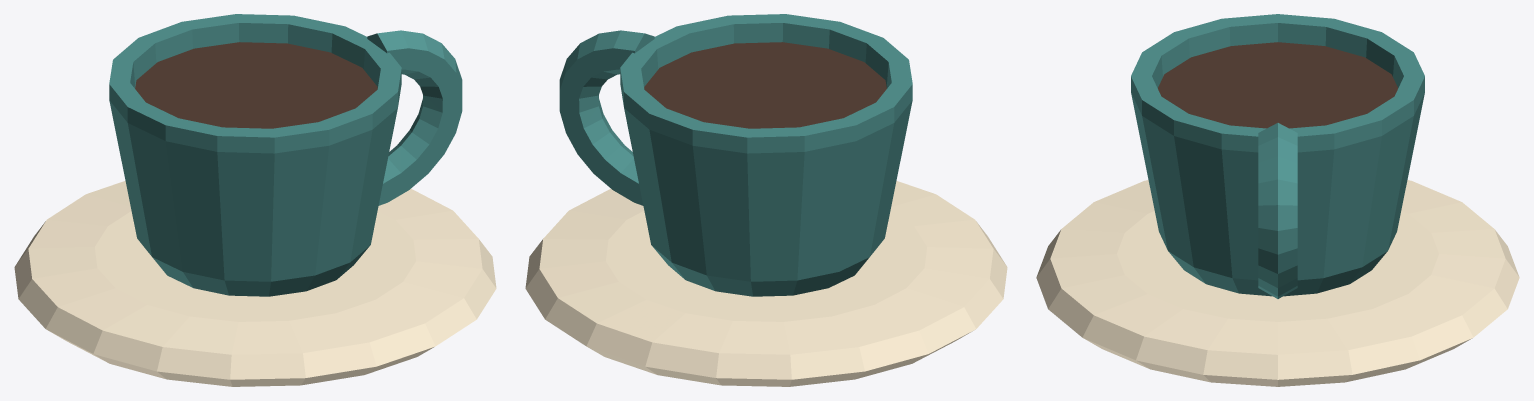
Rendered from 09_Cup_And_Saucer.glb.
3 views of the same model, side by side, from view 1: azimuth 30°, elevation 25°; view 2: azimuth 150°, elevation 25°; view 3: azimuth 270°, elevation 25° (orthographic).
Visible parts, largest first — view 1: 09_Cup_And_Saucer__Body; view 2: 09_Cup_And_Saucer__Body; view 3: 09_Cup_And_Saucer__Body.
Boxes of the visible parts, box(x1,y1,x2,y2) form: 09_Cup_And_Saucer__Body: box(14, 14, 496, 386); 09_Cup_And_Saucer__Body: box(525, 14, 1007, 386); 09_Cup_And_Saucer__Body: box(1036, 14, 1519, 386).
Size of the model in its own units: 1.38 by 0.73 by 1.38.
Materials: 1 (1 with a texture image).
